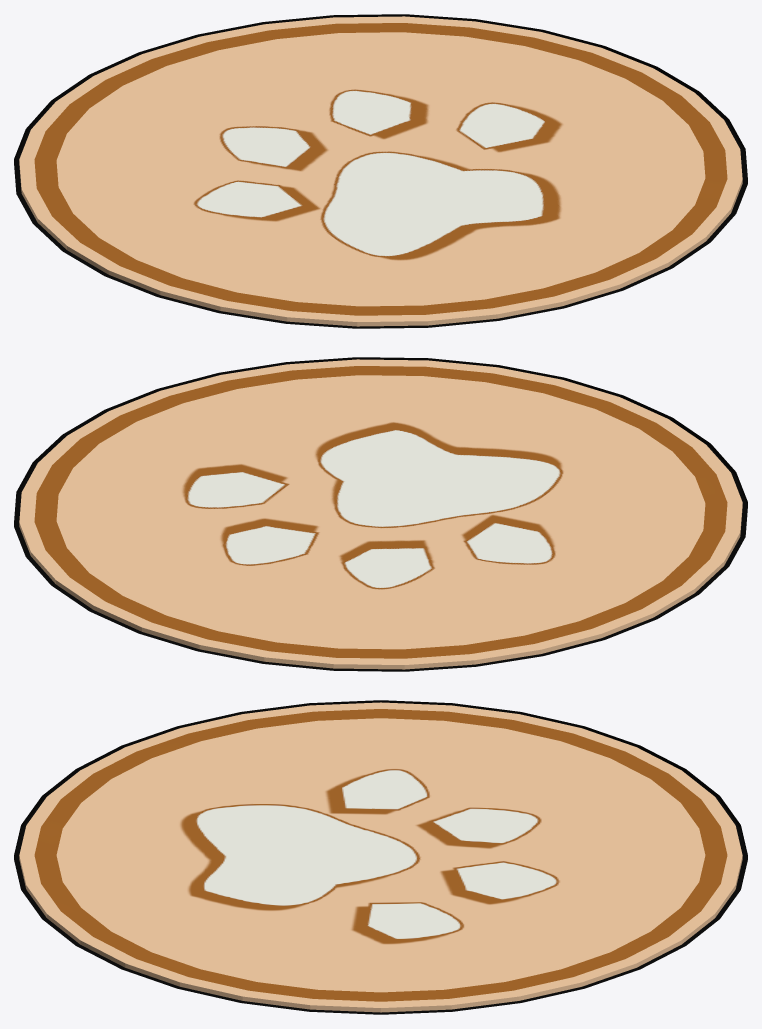
File: RoomCarpetV2.fbx
The picture shows the model from 3 angles, top to bottom: view 1: azimuth 30°, elevation 25°; view 2: azimuth 150°, elevation 25°; view 3: azimuth 270°, elevation 25°; orthographic projection.
Visible parts, largest first — view 1: Rug; view 2: Rug; view 3: Rug.
Part boxes in pixels (x1=…): Rug: x1=14, y1=14, x2=747, y2=328; Rug: x1=14, y1=357, x2=747, y2=671; Rug: x1=14, y1=700, x2=747, y2=1014.
Bounding box in the file's own units: 150 × 1 × 150.
2 materials, 1 textured.
